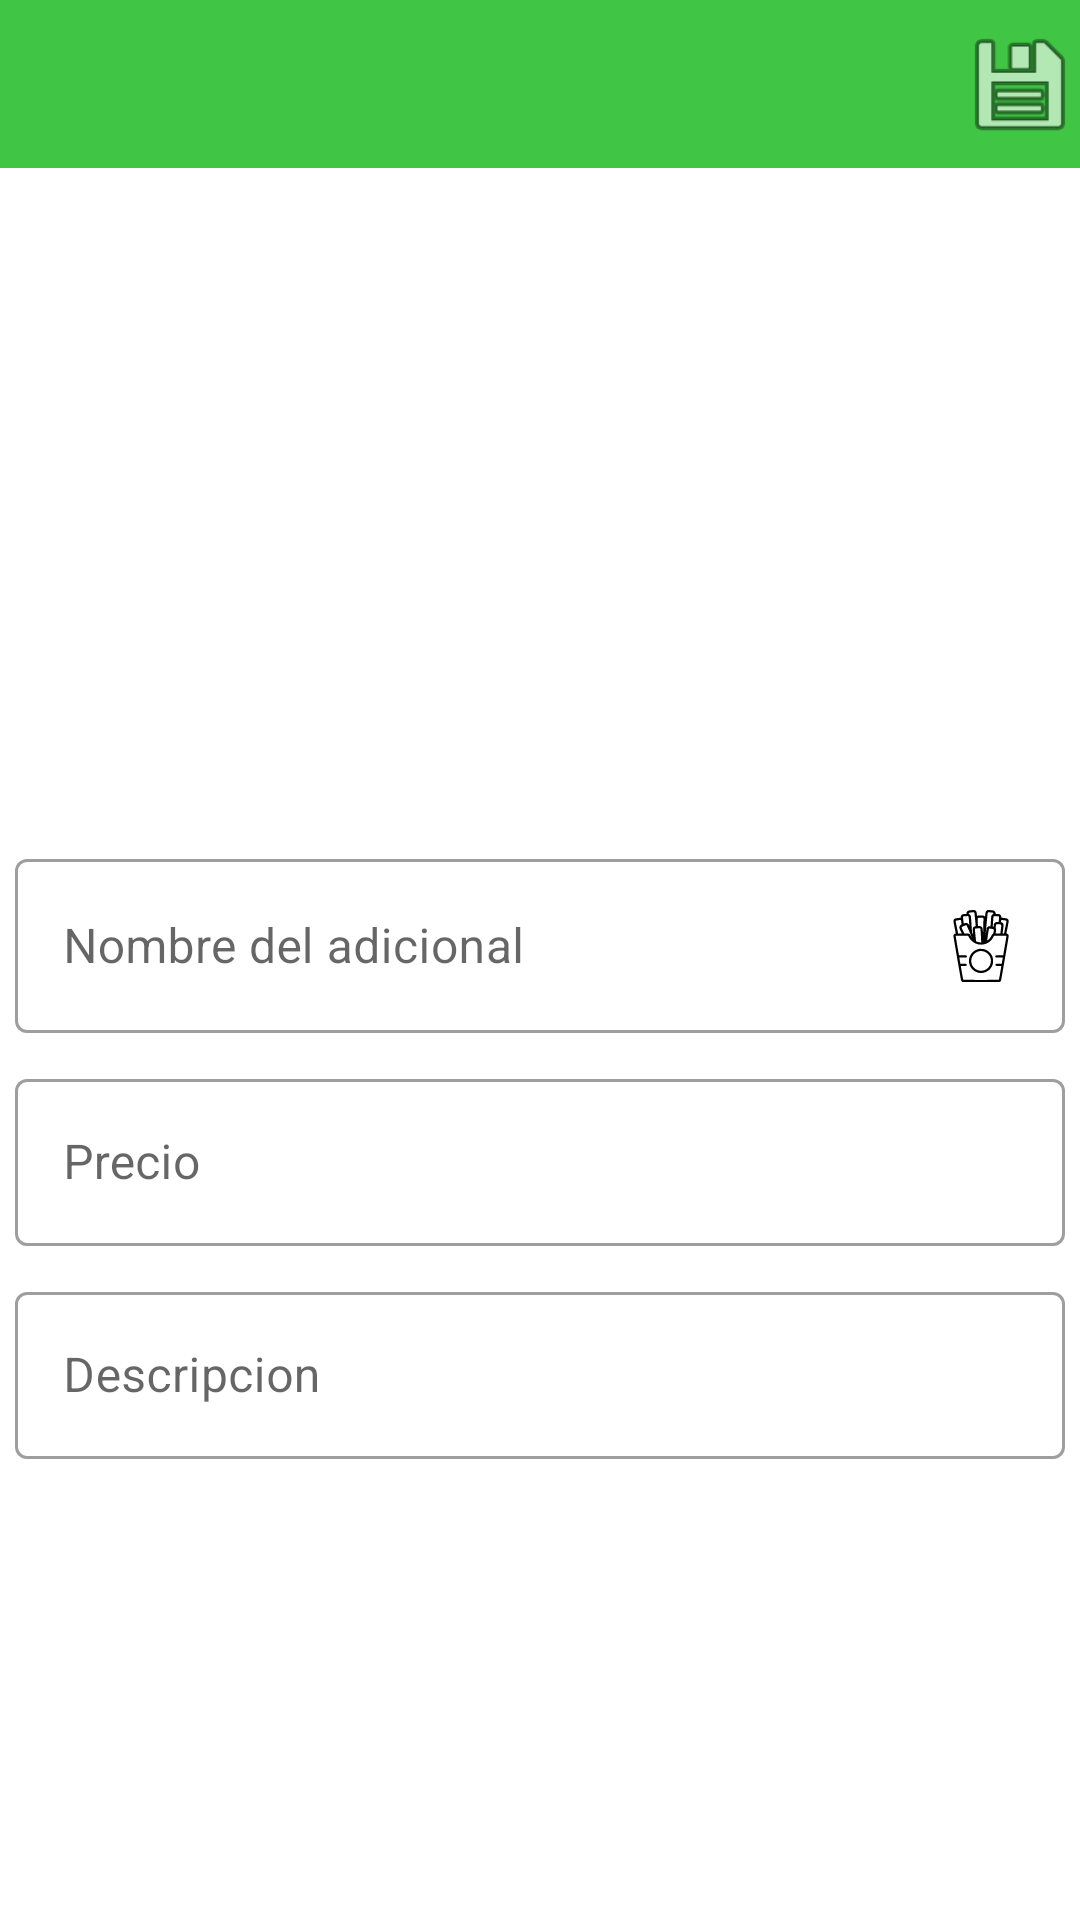

Named icons in this screenshot (1080x1920) and their bounding boxes, (x1, y1, x2, y2):
save: (975, 39, 1065, 130)
